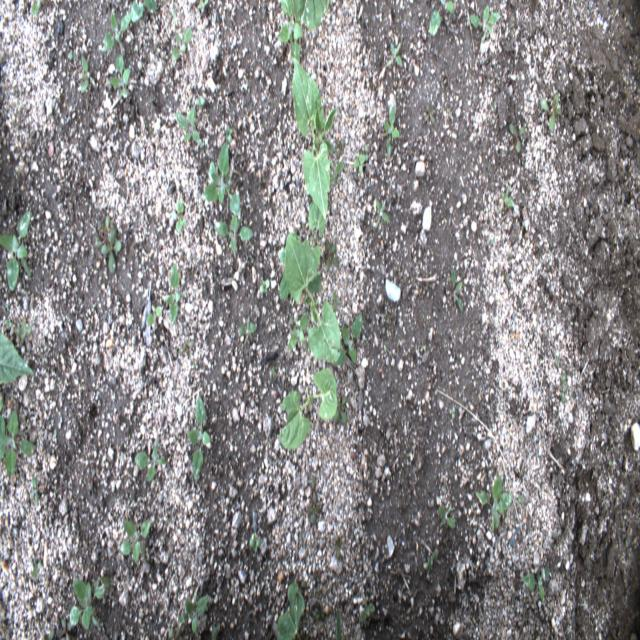crop: (284, 232, 342, 365), (292, 59, 337, 220), (277, 366, 338, 452), (0, 330, 34, 384), (302, 198, 326, 274), (276, 581, 305, 639), (292, 0, 329, 31)
weed: (200, 141, 241, 220), (0, 210, 32, 294), (0, 409, 38, 478), (186, 392, 212, 481), (475, 476, 513, 534), (69, 576, 111, 628), (276, 0, 304, 71), (175, 584, 210, 639), (95, 213, 122, 275), (215, 212, 252, 254), (333, 314, 362, 366), (134, 435, 166, 482), (120, 517, 152, 564), (102, 12, 135, 56), (163, 263, 185, 327), (279, 230, 299, 300), (469, 4, 502, 42), (175, 106, 203, 146), (521, 564, 549, 603), (108, 54, 132, 97), (538, 92, 562, 132), (428, 0, 454, 35), (287, 312, 308, 353), (384, 104, 399, 161), (172, 26, 192, 61), (238, 314, 258, 346), (130, 0, 157, 23), (451, 268, 464, 314), (510, 122, 528, 155), (170, 201, 188, 232), (374, 196, 390, 230), (385, 40, 403, 68), (333, 394, 349, 424), (438, 504, 457, 529), (325, 238, 339, 271), (14, 318, 32, 343), (360, 594, 375, 623), (559, 370, 571, 406), (145, 306, 163, 328), (30, 476, 42, 506), (330, 158, 344, 183), (80, 55, 89, 93), (353, 152, 368, 174), (248, 530, 262, 553), (500, 183, 514, 206), (426, 548, 437, 576), (306, 505, 321, 525), (57, 618, 71, 639), (423, 102, 436, 124), (179, 339, 195, 356), (334, 533, 344, 560), (210, 622, 222, 640), (32, 558, 42, 579), (336, 607, 342, 639), (336, 138, 345, 158), (43, 625, 55, 639), (31, 0, 42, 15), (259, 280, 271, 293), (311, 473, 316, 502), (197, 0, 209, 12), (516, 492, 524, 509), (194, 96, 206, 106), (225, 126, 232, 142), (67, 50, 77, 60), (349, 519, 354, 539), (4, 319, 13, 329), (0, 399, 3, 412)
